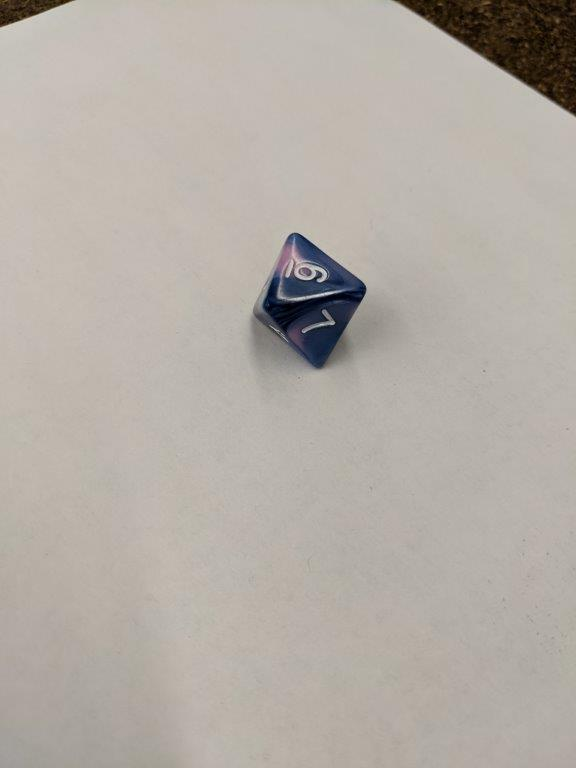d8-6: (251, 230, 368, 372)
